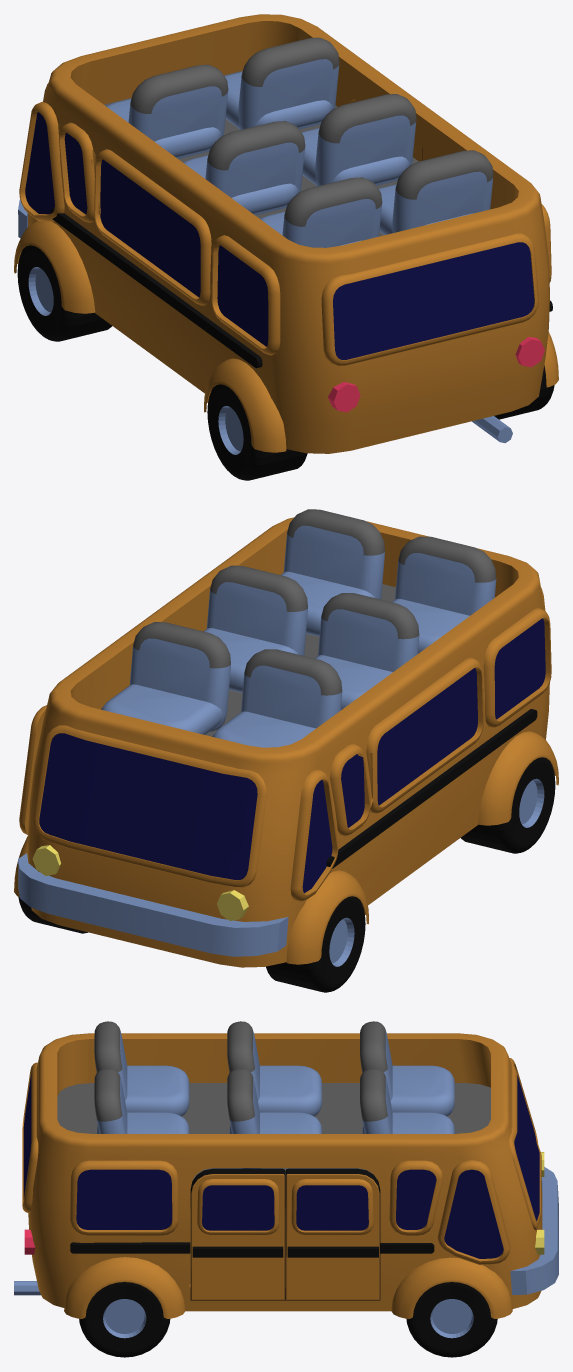
The model's file is bus_short.fbx.
3 renders of one model, top to bottom at view 1: azimuth 30°, elevation 25°; view 2: azimuth 150°, elevation 25°; view 3: azimuth 270°, elevation 25°, orthographic. The views are drawn at different scales.
Parts seen in each view (by area): view 1: Bus_Body.001, Cube.015, Bus_Wheels; view 2: Bus_Body.001, Cube.015, Bus_Wheels; view 3: Bus_Body.001, Cube.015, Bus_Door_R.001, Bus_Door_L.001, Bus_Wheels.
Boxes of the visible parts, left/top/right/bottom form: Bus_Body.001: left=14, top=14, right=558, bottom=453; Cube.015: left=106, top=37, right=493, bottom=247; Bus_Wheels: left=17, top=245, right=554, bottom=480; Bus_Body.001: left=14, top=517, right=558, bottom=967; Cube.015: left=101, top=509, right=496, bottom=747; Bus_Wheels: left=18, top=757, right=555, bottom=992; Bus_Body.001: left=14, top=1033, right=558, bottom=1318; Cube.015: left=94, top=1021, right=454, bottom=1168; Bus_Door_R.001: left=285, top=1168, right=380, bottom=1300; Bus_Door_L.001: left=190, top=1168, right=285, bottom=1300; Bus_Wheels: left=79, top=1282, right=497, bottom=1357.
Size of the model in its own units: 324 by 283 by 582.
